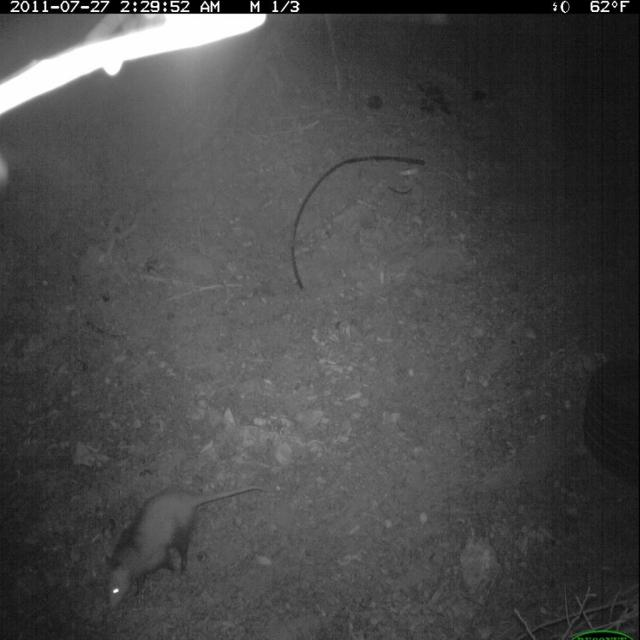opossum: (93, 479, 274, 618)
